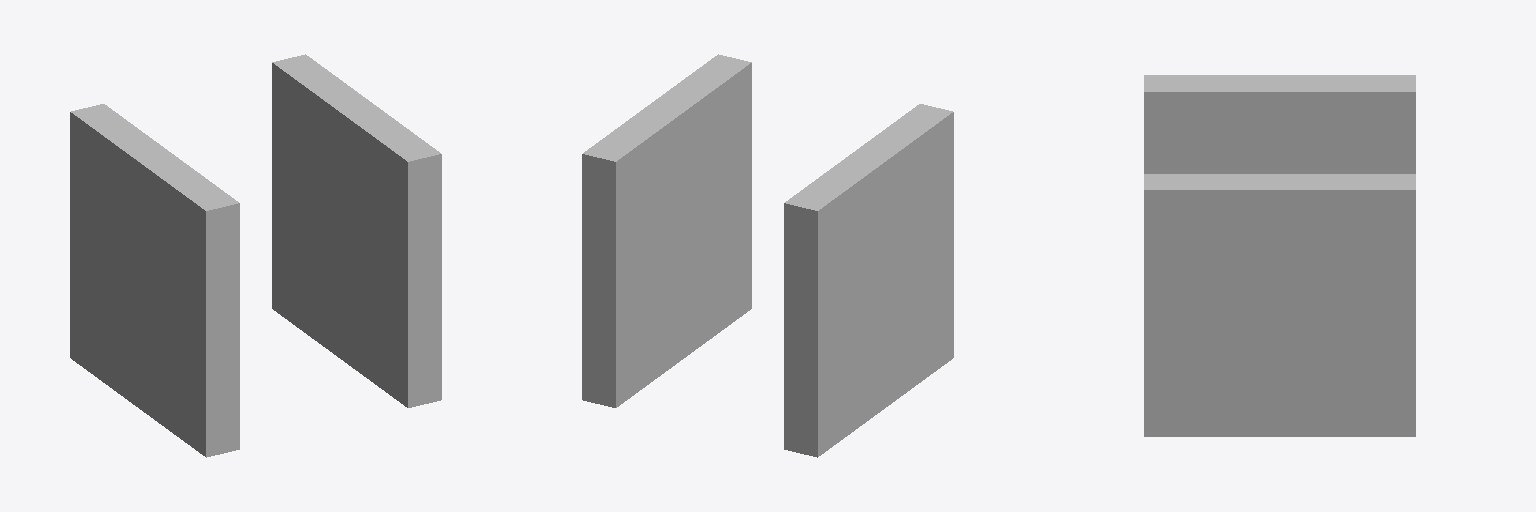
The model's file is PasajeSur.obj.
The picture shows the model from 3 angles: view 1: azimuth 30°, elevation 25°; view 2: azimuth 150°, elevation 25°; view 3: azimuth 270°, elevation 25°; orthographic projection.
Parts seen in each view (by area): view 1: PasajeSur_Cube.002; view 2: PasajeSur_Cube.002; view 3: PasajeSur_Cube.002.
Boxes of the visible parts, x1=… form: PasajeSur_Cube.002: x1=70, y1=54, x2=441, y2=457; PasajeSur_Cube.002: x1=582, y1=54, x2=953, y2=457; PasajeSur_Cube.002: x1=1144, y1=75, x2=1415, y2=436.
Bounding box in the file's own units: 2 × 2 × 2.